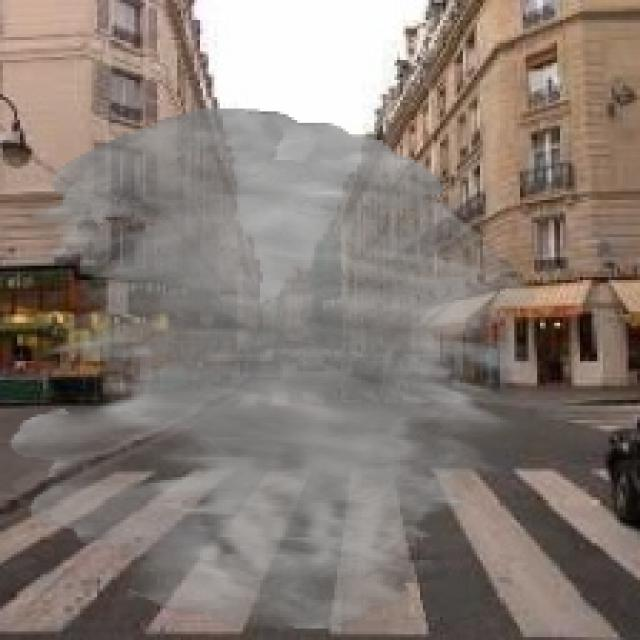smoke: (8, 109, 543, 632)
